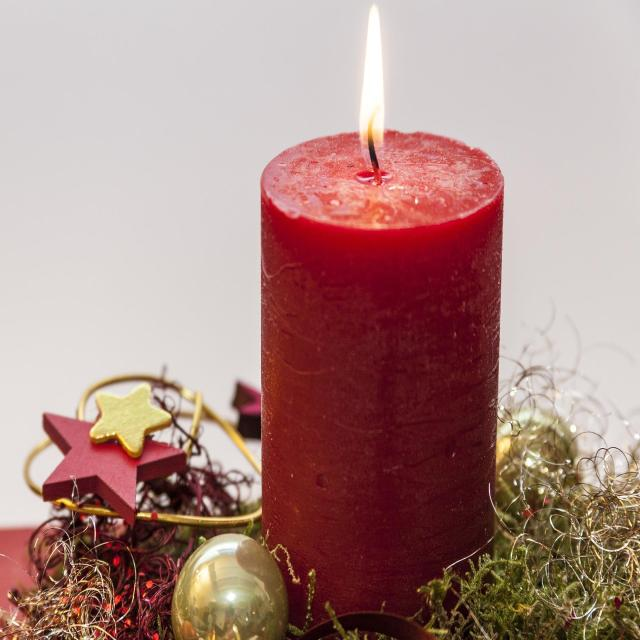Fire_Save: (258, 4, 505, 634)
